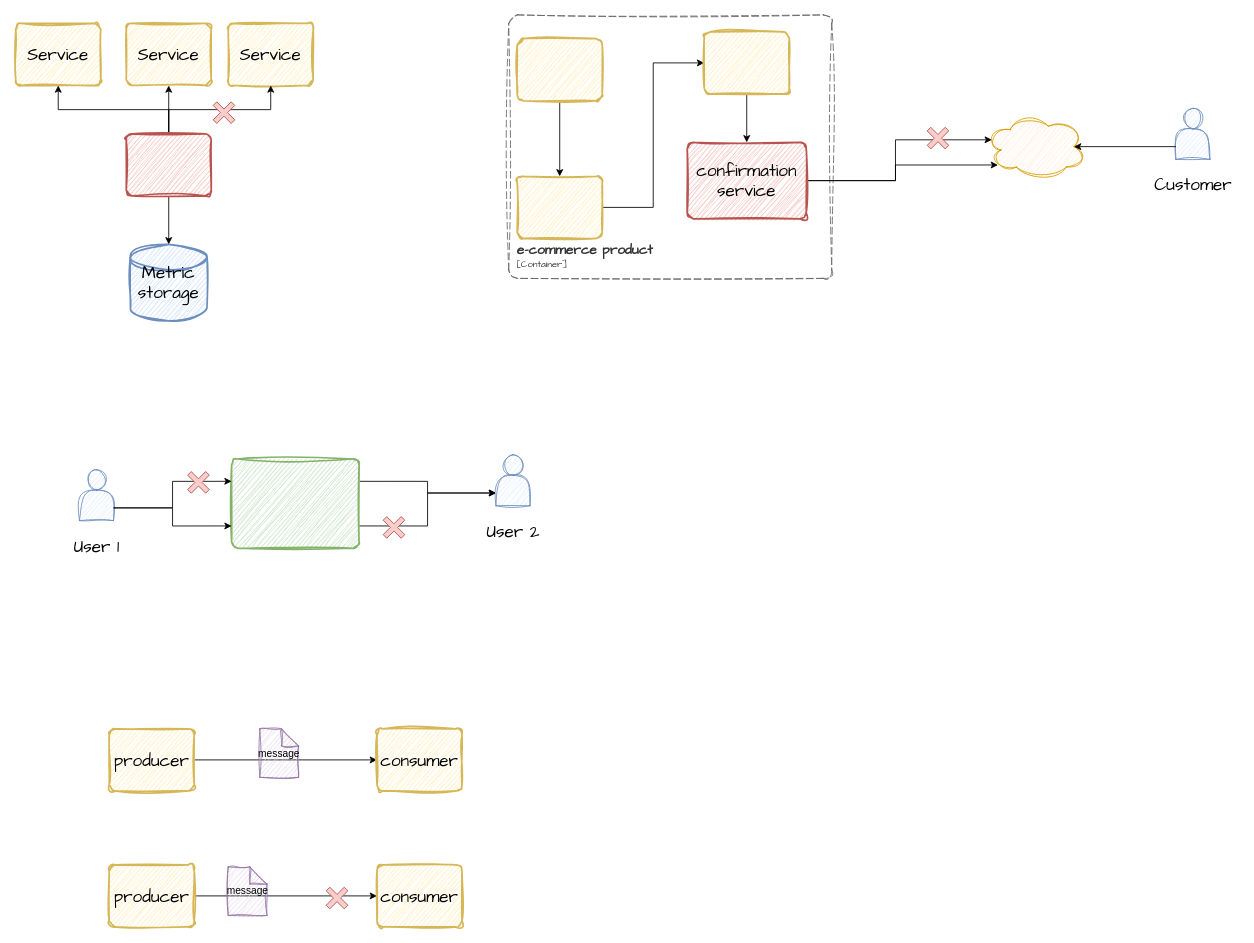
This 1254x943 diagram has some shape labels left out. Each missing label, with the centre of its shape:
"component 1" belongs at pixel 559 69.
"component 2" belongs at pixel 559 207.
"component 3" belongs at pixel 746 62.
"email" belongs at pixel 1035 146.
"Metric scrapper" belongs at pixel 168 164.
"Money transfer service" belongs at pixel 295 503.
